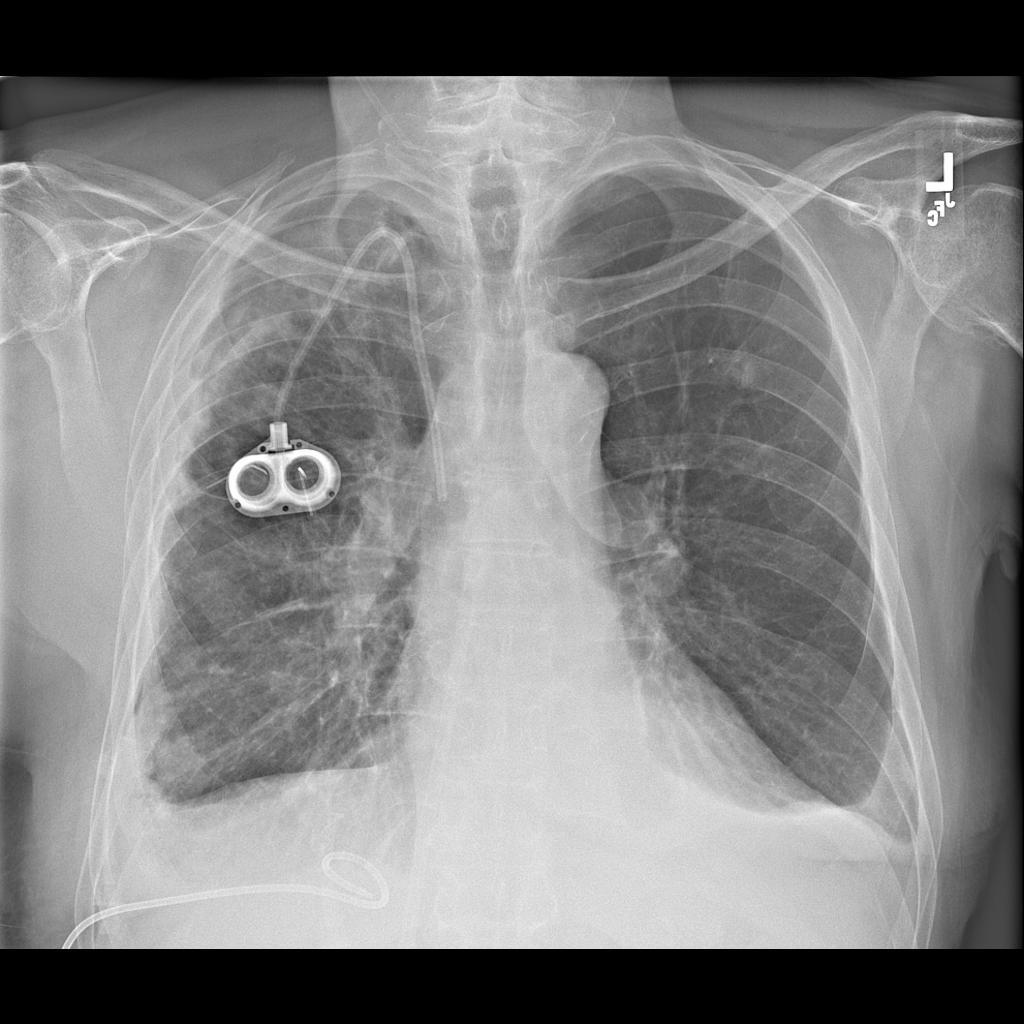Nodule: (154, 732, 208, 794), (727, 354, 768, 392)
